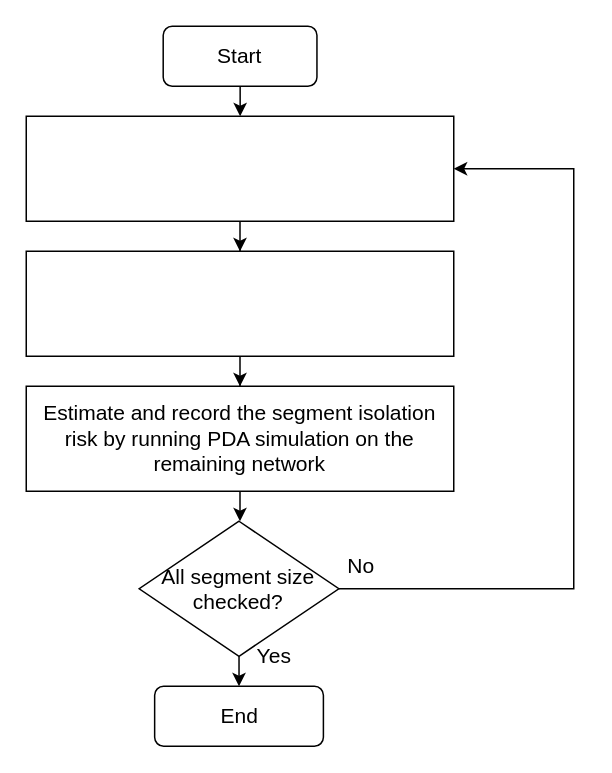
Some shapes in this 612 by 773 pixel diagram are drawn without their labels. The centre of each missing label's shape, as x and y in pixels:
Recursively add closest pipes to form a segment with size k: the point at 239,168
Remove the formed segment from the network: the point at 239,303
